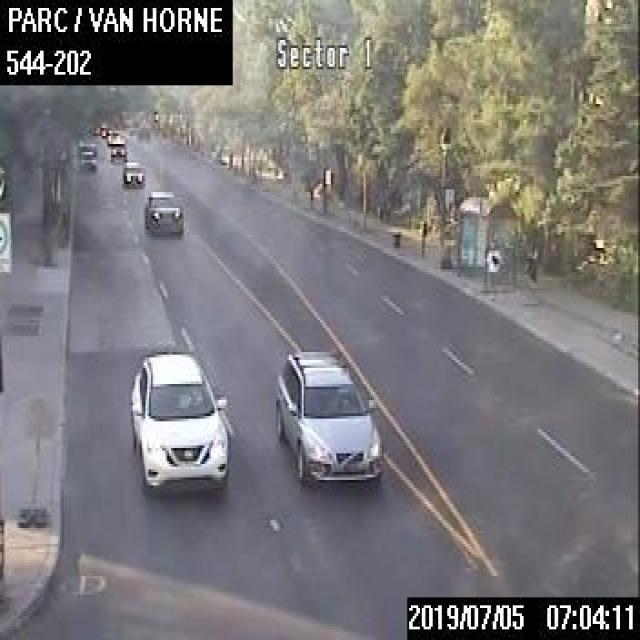construction: (16, 392, 56, 524)
pedestrian: (487, 238, 502, 283)
vehicle: (274, 348, 380, 485), (128, 350, 229, 491), (143, 188, 182, 235), (122, 159, 144, 187), (77, 138, 96, 168), (109, 137, 126, 160), (105, 127, 119, 143)
